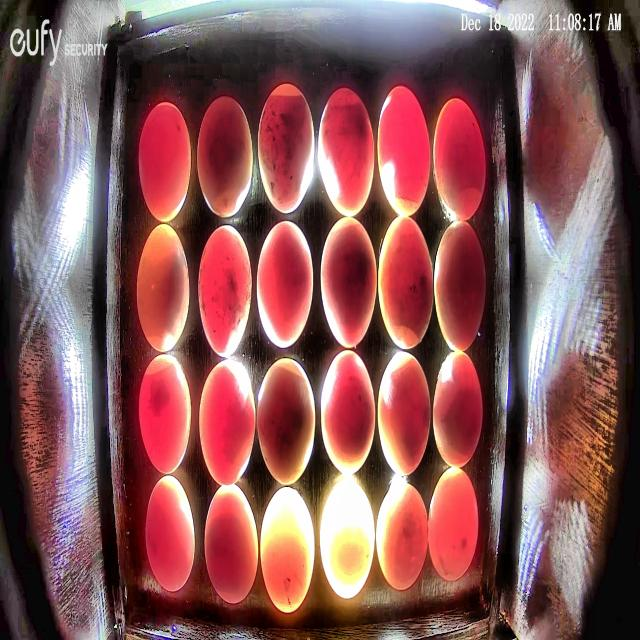DE: (375, 478, 430, 592), (428, 467, 479, 584)
FE: (256, 82, 316, 216), (256, 357, 316, 486), (318, 87, 377, 218), (319, 216, 377, 349), (375, 84, 432, 218), (256, 219, 313, 349), (378, 218, 434, 350), (195, 94, 253, 221), (198, 360, 256, 486), (434, 218, 487, 354), (198, 225, 252, 358), (135, 224, 190, 354), (320, 349, 376, 474), (375, 352, 431, 476), (203, 483, 260, 604), (138, 99, 192, 223), (433, 98, 485, 222), (138, 354, 191, 475), (431, 350, 484, 469), (144, 476, 197, 592)
UF: (319, 475, 376, 599), (261, 484, 315, 612)
